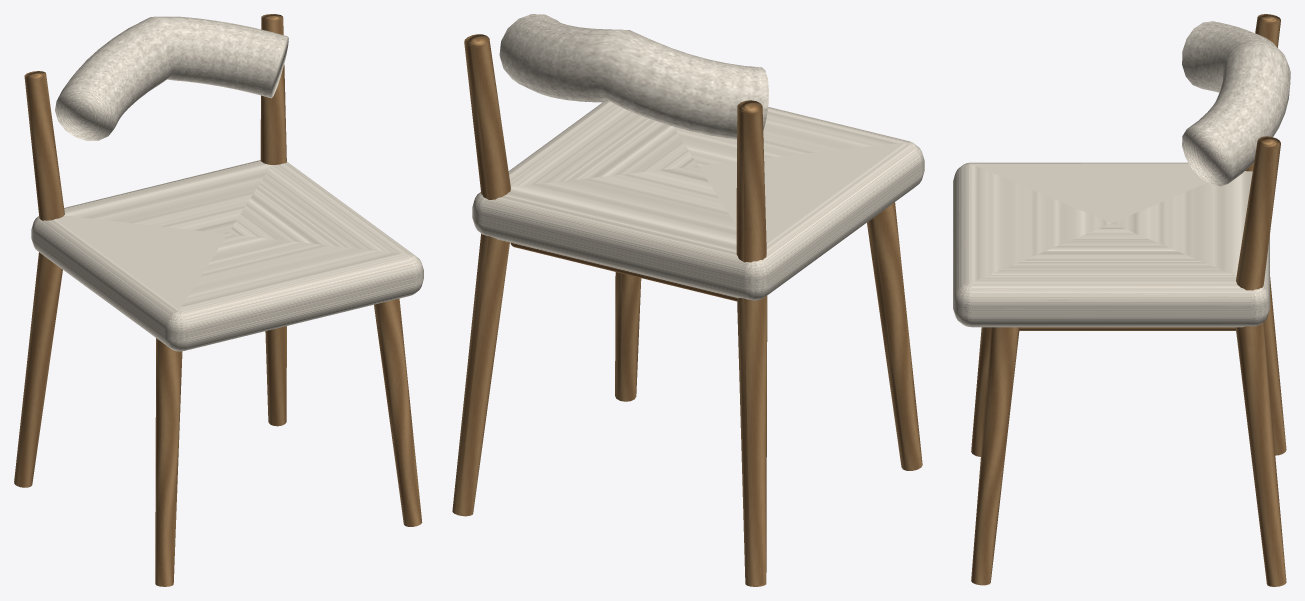
File: obj_birim_dining_chair.glb
3 views of the same model, side by side, from view 1: azimuth 30°, elevation 25°; view 2: azimuth 150°, elevation 25°; view 3: azimuth 270°, elevation 25° (orthographic). The views are drawn at different scales.
Parts seen in each view (by area): view 1: obj_birim_dining_chair; view 2: obj_birim_dining_chair; view 3: obj_birim_dining_chair.
Boxes of the visible parts, x1=… form: obj_birim_dining_chair: x1=14, y1=14, x2=423, y2=586; obj_birim_dining_chair: x1=452, y1=14, x2=924, y2=586; obj_birim_dining_chair: x1=953, y1=14, x2=1290, y2=586.
Bounding box in the file's own units: 0.5044 × 0.7882 × 0.5117.
2 materials, 2 textured.
